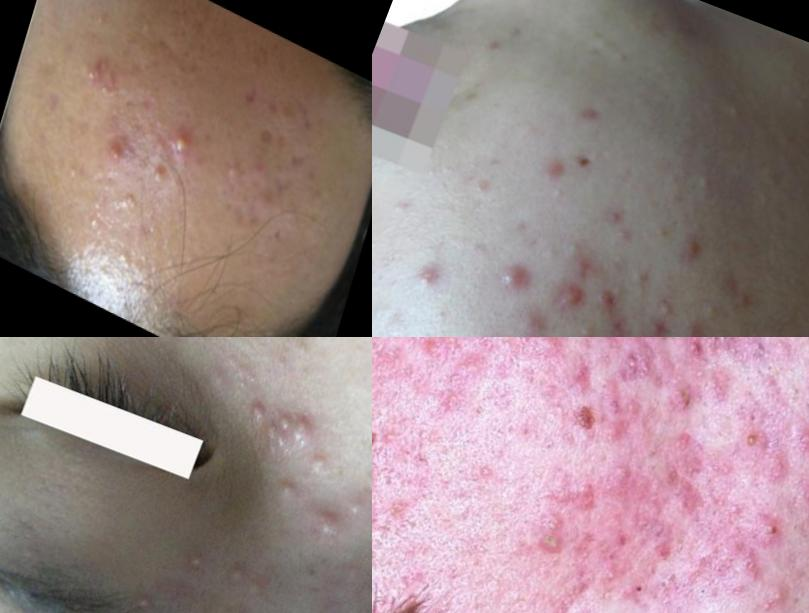acne_scars: (257, 109, 291, 166), (237, 70, 269, 120), (285, 134, 319, 177)
blackhead: (288, 550, 336, 593)
papular: (480, 250, 543, 312), (543, 275, 602, 329), (666, 223, 719, 274), (296, 439, 350, 489), (405, 253, 458, 302), (588, 277, 634, 320), (564, 252, 606, 294), (536, 152, 579, 192), (501, 324, 582, 338), (639, 309, 675, 338), (467, 325, 505, 338)
purulent: (299, 499, 357, 555), (529, 521, 588, 576), (753, 500, 803, 550), (161, 111, 207, 164), (93, 132, 137, 175), (238, 387, 277, 435), (219, 553, 259, 597), (269, 473, 308, 516), (286, 403, 323, 448), (262, 408, 297, 452), (178, 538, 215, 578), (341, 487, 373, 526)
sebo-crystan-conglo: (608, 338, 666, 398), (666, 374, 718, 421), (373, 482, 407, 547), (90, 36, 121, 93), (646, 338, 713, 356)
whitehead: (54, 148, 95, 201), (128, 7, 168, 61), (718, 83, 759, 129), (83, 199, 121, 245), (683, 168, 724, 206), (649, 280, 684, 324), (147, 143, 179, 191), (606, 217, 642, 250), (562, 312, 606, 338), (626, 264, 659, 297), (691, 290, 721, 323), (560, 232, 590, 264), (90, 1, 118, 35), (114, 238, 138, 275), (541, 179, 571, 207), (223, 146, 246, 182), (119, 185, 144, 217), (538, 239, 566, 266), (431, 306, 456, 331)
